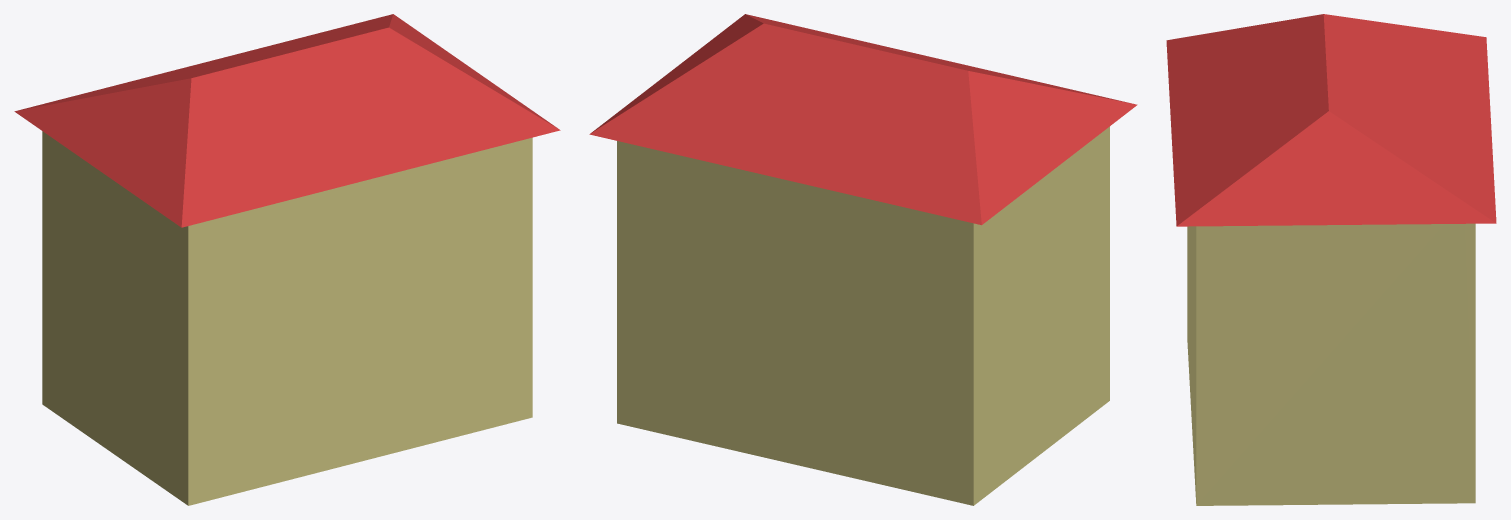
The picture shows the model from 3 angles, left to right: view 1: azimuth 30°, elevation 25°; view 2: azimuth 150°, elevation 25°; view 3: azimuth 270°, elevation 25°; orthographic projection.
Parts seen in each view (by area): view 1: group_5, group_3, group_4; view 2: group_5, group_3, group_4; view 3: group_5, group_3, group_4.
Boxes of the visible parts, x1,y1,x2,y2 form: group_5: (42, 131, 532, 505); group_3: (14, 14, 560, 227); group_4: (22, 14, 557, 227); group_5: (617, 126, 1109, 505); group_3: (589, 14, 1136, 224); group_4: (590, 14, 1137, 223); group_5: (1187, 223, 1475, 505); group_3: (1166, 14, 1496, 226); group_4: (1170, 33, 1496, 226).
Bounding box in the file's own units: 16.6 × 12.23 × 14.62.
